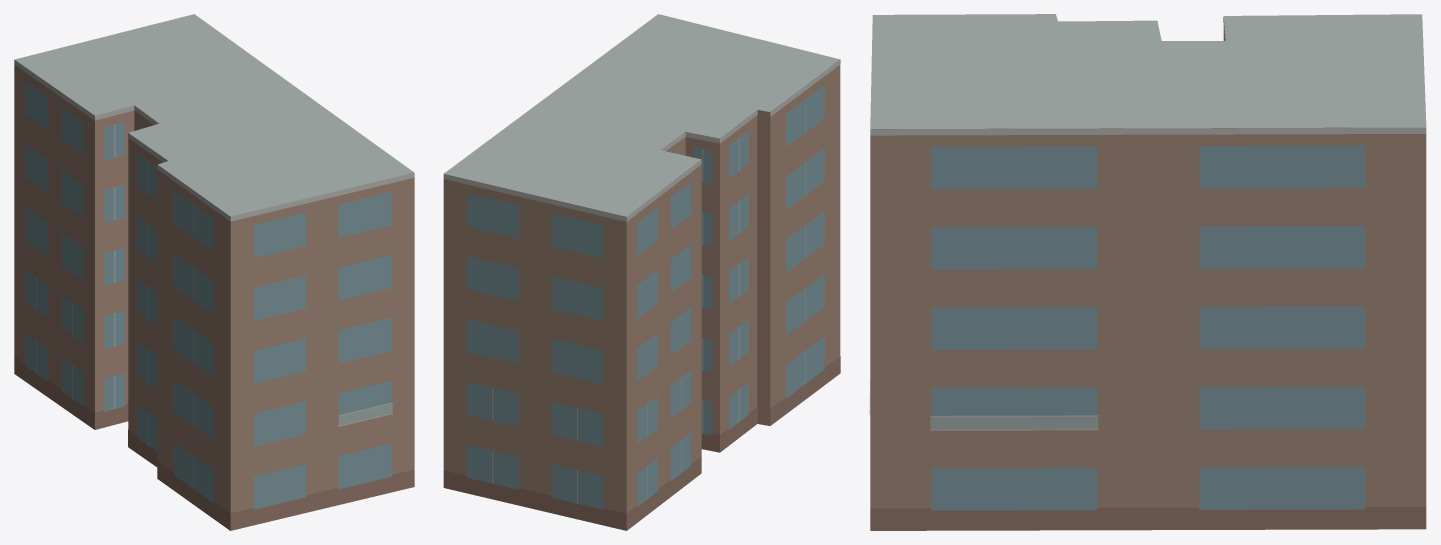
Rendered from survey-upis-32579465.glb.
3 renders of one model, left to right at view 1: azimuth 30°, elevation 25°; view 2: azimuth 150°, elevation 25°; view 3: azimuth 270°, elevation 25°, orthographic. The views are drawn at different scales.
Parts seen in each view (by area): view 1: survey-upis-32579465.tmp; view 2: survey-upis-32579465.tmp; view 3: survey-upis-32579465.tmp.
Boxes of the visible parts, left/top/right/bottom form: survey-upis-32579465.tmp: left=14, top=14, right=414, bottom=530; survey-upis-32579465.tmp: left=443, top=14, right=840, bottom=530; survey-upis-32579465.tmp: left=869, top=14, right=1426, bottom=530.
Size of the model in its own units: 9.4 by 15.25 by 19.17.
